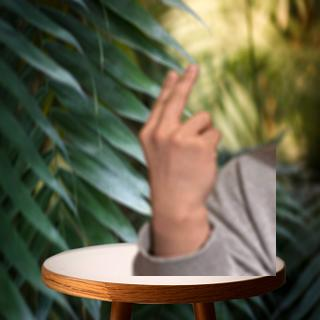DHAVE: (132, 58, 228, 211)
